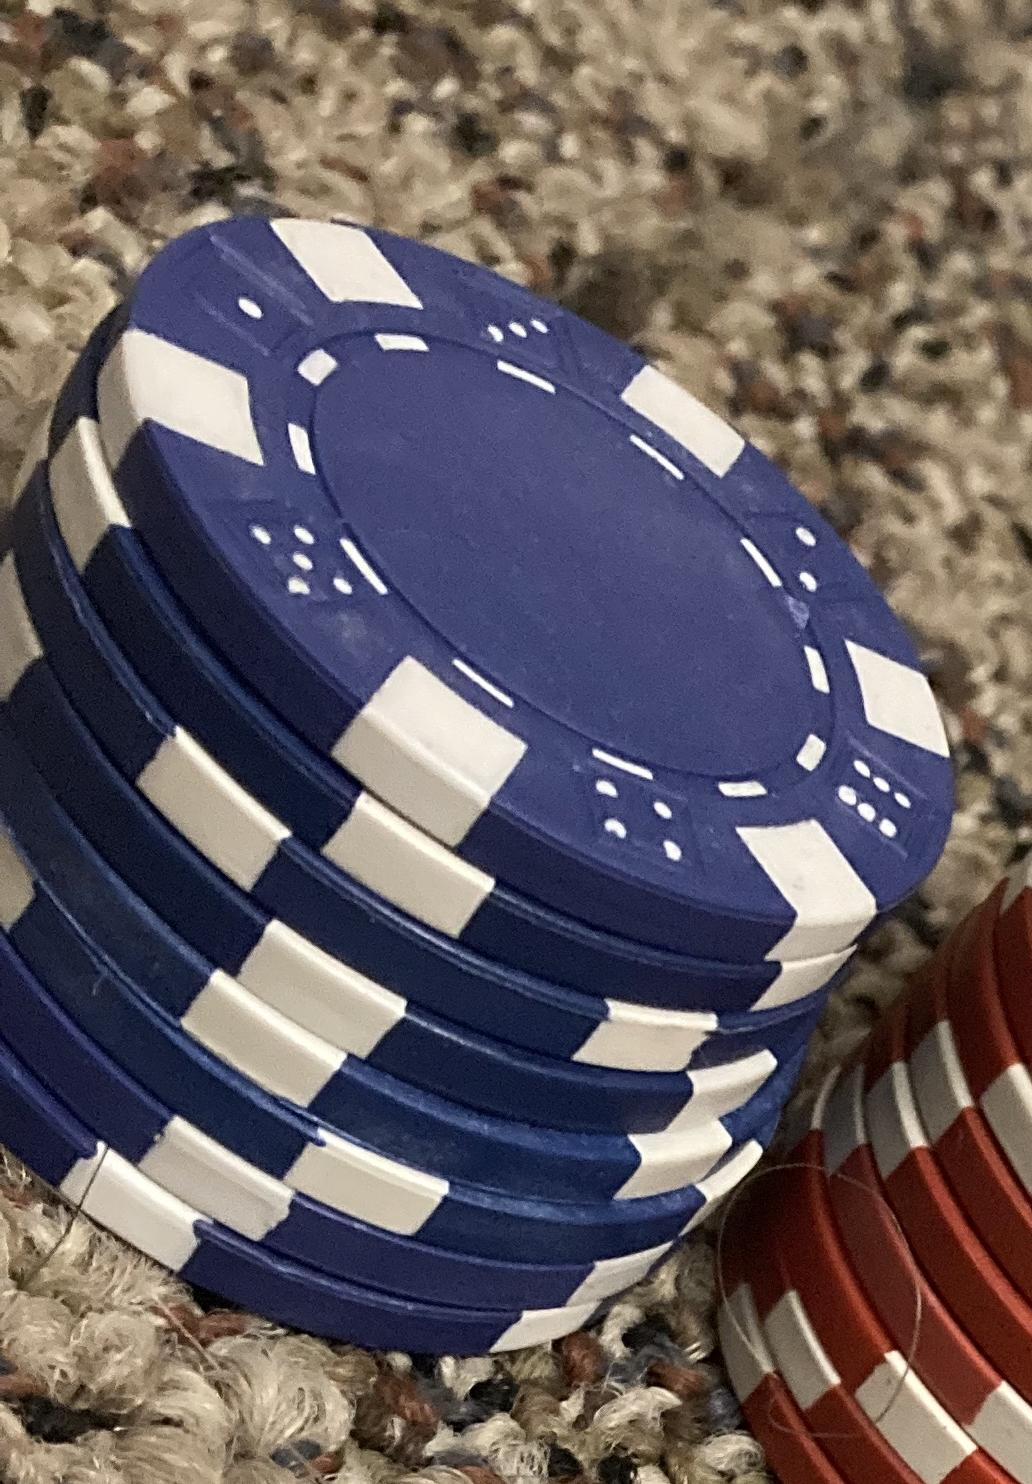Chip: (1, 1, 1032, 1484)
